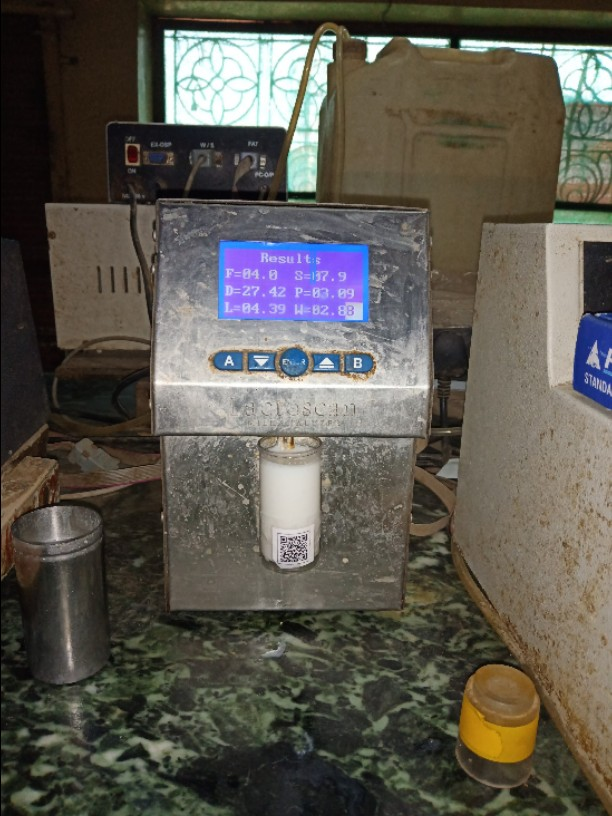lcd: (209, 231, 375, 334)
qr: (262, 524, 333, 574)
